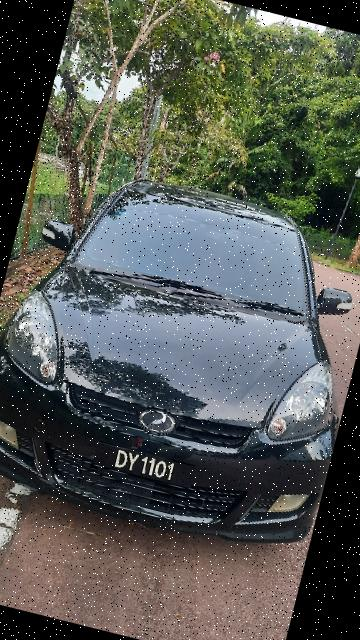License_Plate: (74, 426, 203, 495)
car: (1, 144, 360, 577)
